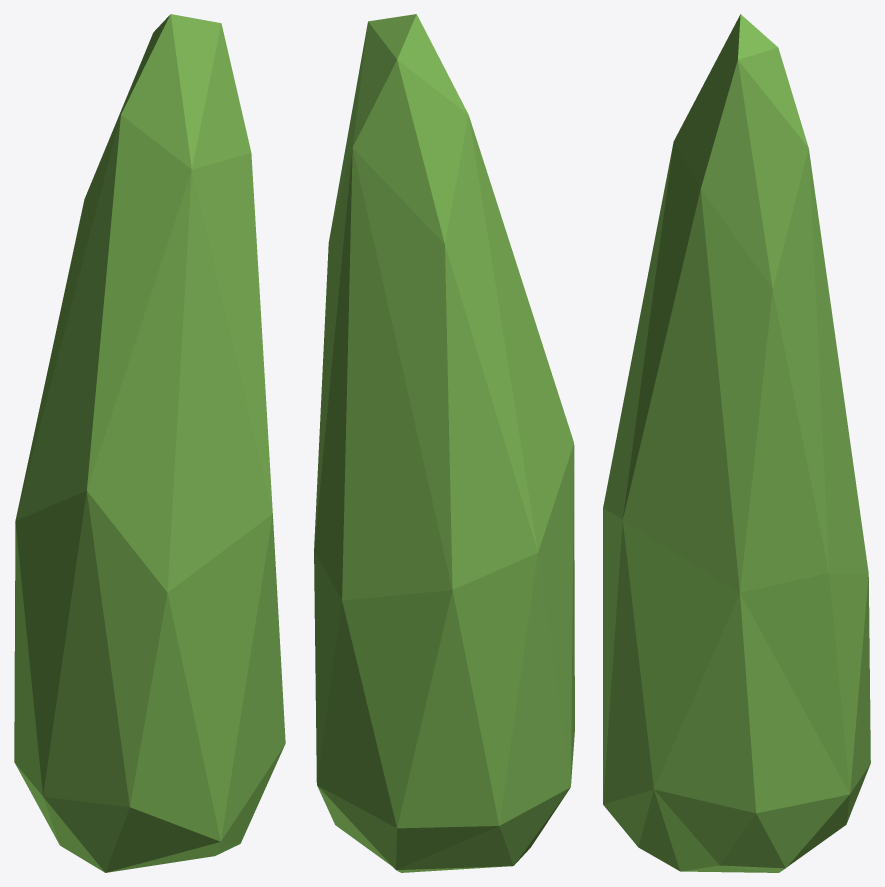
The model's file is Thuja_BushTree_m_07.fbx.
The picture shows the model from 3 angles, left to right: view 1: azimuth 30°, elevation 25°; view 2: azimuth 150°, elevation 25°; view 3: azimuth 270°, elevation 25°; orthographic projection. The views are drawn at different scales.
Visible parts, largest first — view 1: Thuja_BushTree_m_07; view 2: Thuja_BushTree_m_07; view 3: Thuja_BushTree_m_07.
Part boxes in pixels (left/top/right/bottom): Thuja_BushTree_m_07: left=14, top=14, right=285, bottom=872; Thuja_BushTree_m_07: left=314, top=14, right=574, bottom=872; Thuja_BushTree_m_07: left=603, top=14, right=870, bottom=872.
Bounding box in the file's own units: 99.42 × 343 × 96.61.
